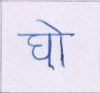e_matra: (36, 19, 65, 33)
